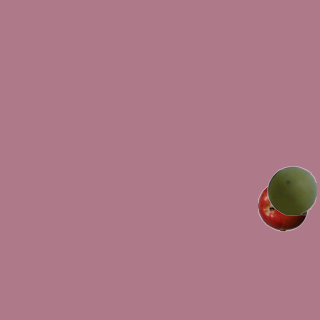Apple Braeburn: (257, 181, 307, 231)
Grape White 4: (266, 165, 316, 215)
